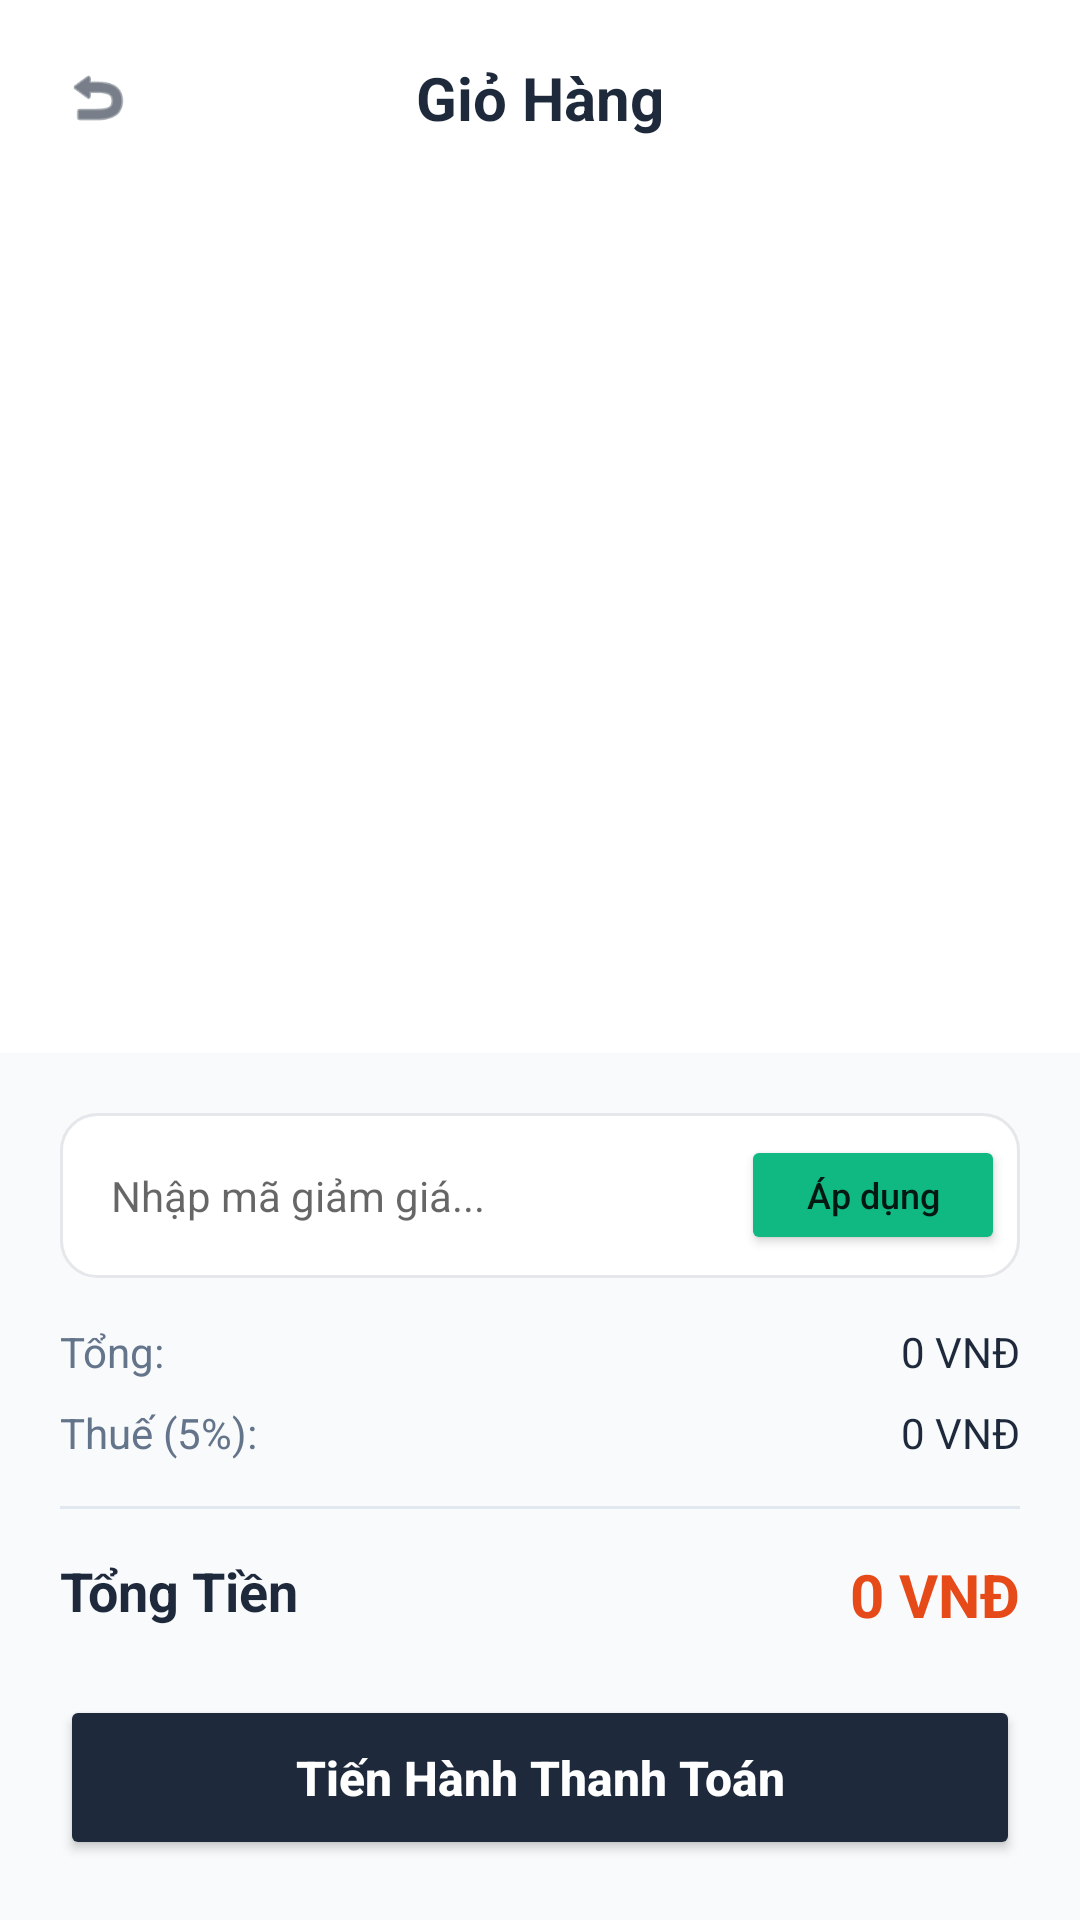

Icons on this 1080 × 1920 Android screen, each with the point to tap as (x=x, y=y):
revert: (x=98, y=98)
